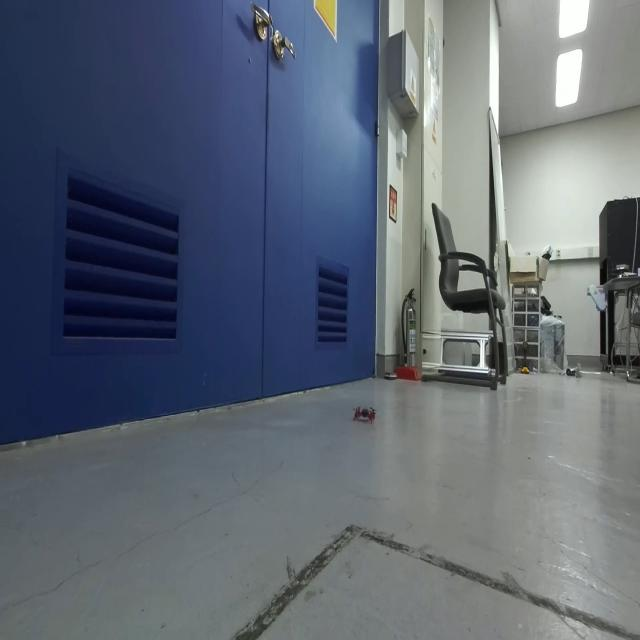crazyflie: (351, 400, 382, 427)
